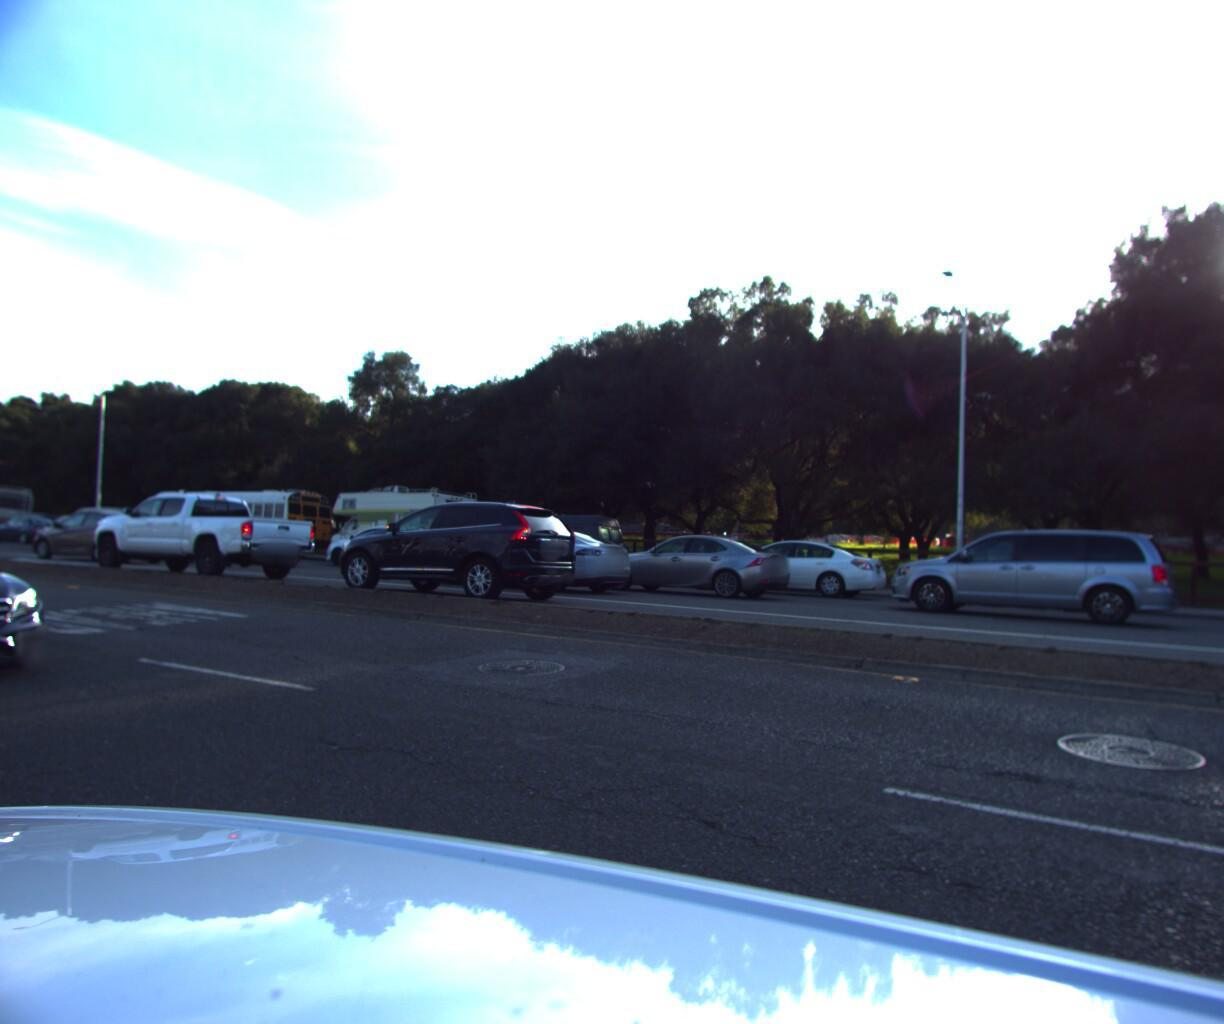bus: (130, 490, 335, 565)
car: (881, 522, 1181, 630), (316, 495, 589, 614), (75, 492, 322, 588), (427, 519, 640, 599), (592, 528, 801, 602), (0, 509, 65, 726), (709, 531, 900, 602), (481, 513, 635, 584), (20, 510, 181, 573), (652, 537, 806, 594), (318, 523, 453, 575), (11, 514, 121, 559), (58, 509, 155, 554), (0, 517, 76, 549), (0, 493, 1, 560)
other_vehicle: (324, 485, 483, 574), (0, 486, 39, 544)
